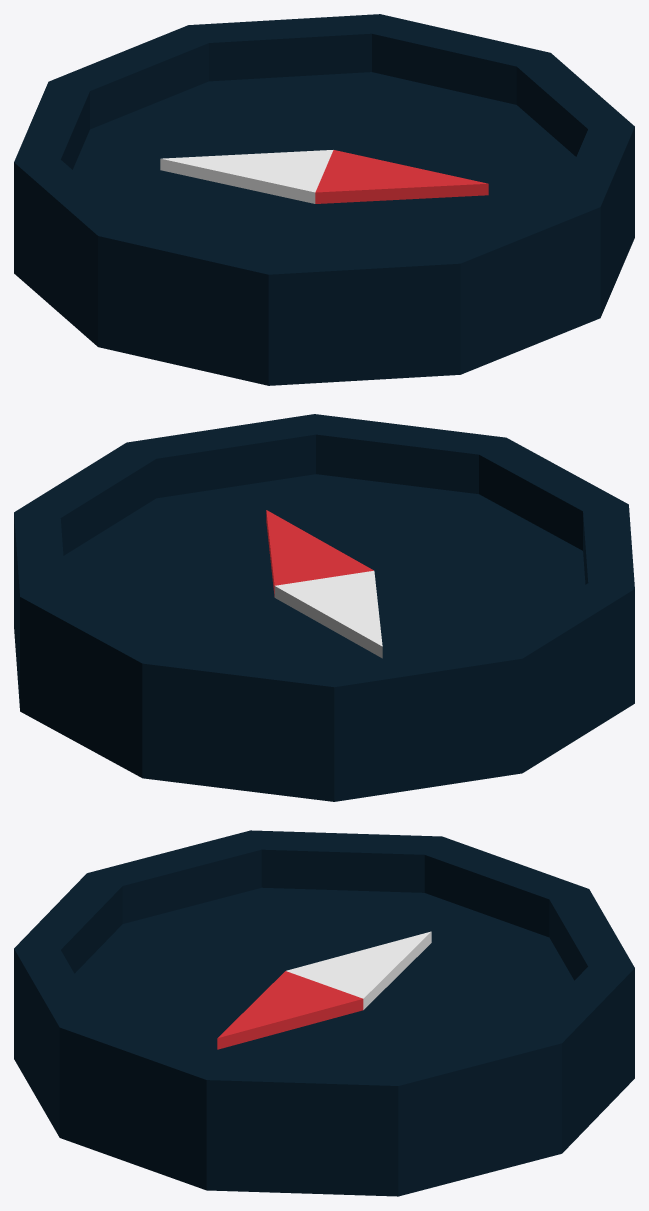
File: Compass.glb
3 renders of one model, top to bottom at view 1: azimuth 30°, elevation 25°; view 2: azimuth 150°, elevation 25°; view 3: azimuth 270°, elevation 25°, orthographic. The views are drawn at different scales.
Parts seen in each view (by area): view 1: Compass; view 2: Compass; view 3: Compass.
Boxes of the visible parts, bbox=[...] form: Compass: bbox=[14, 14, 634, 385]; Compass: bbox=[14, 414, 634, 801]; Compass: bbox=[14, 830, 634, 1196].
Bounding box in the file's own units: 0.0625 × 0.0126 × 0.0641.
Materials: 3 (3 with a texture image).
